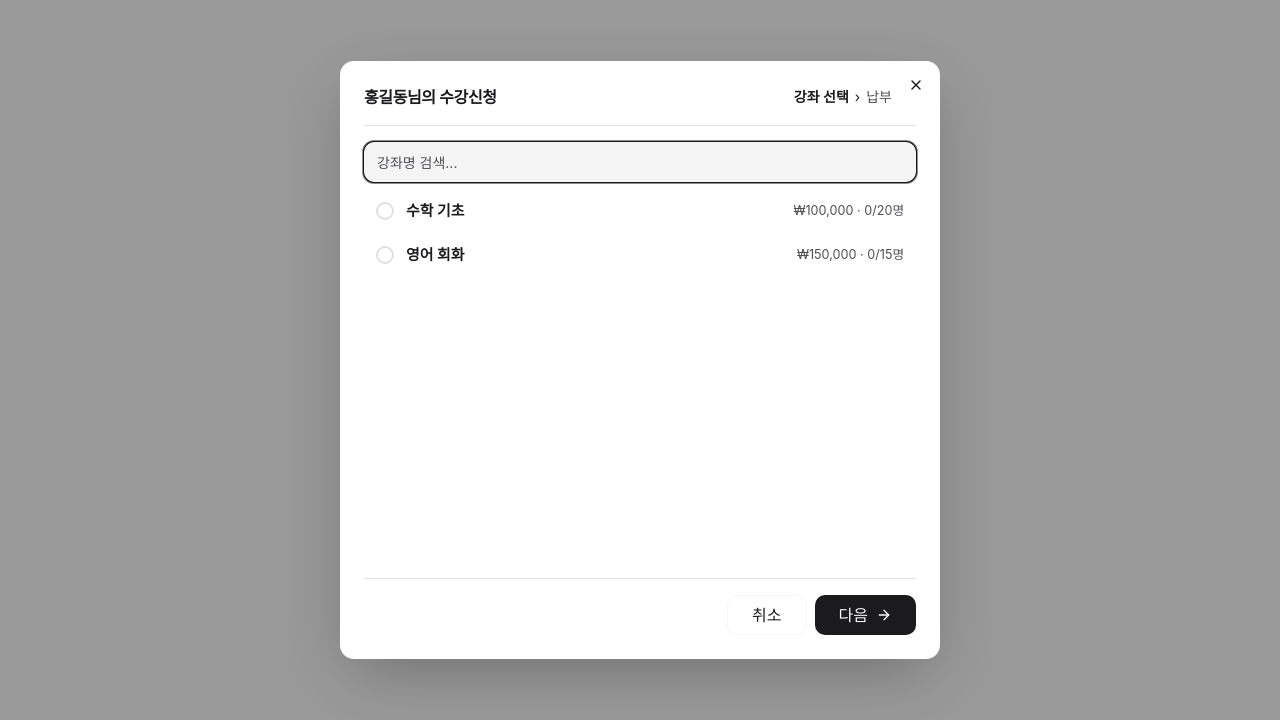
Test: EnrollmentForm › selecting a course shows payment section
The width and height of the screenshot is (1280, 720).
What coordinates should you click on to do the following:
click the button "수학 기초 ₩100,000 · 0/20명"
I would click on:
 (435, 211)
Its box is [364,190,916,232].
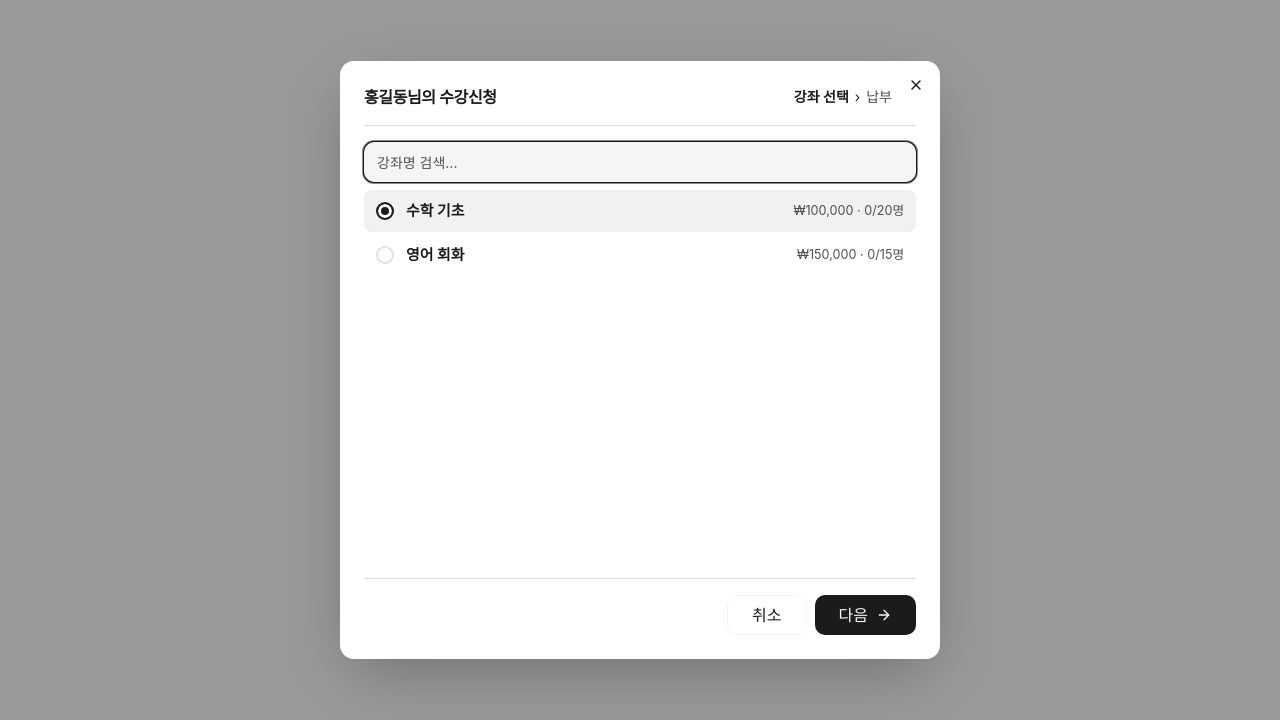
What coordinates should you click on to do the following:
click the button "다음"
I would click on:
 (865, 615)
Its box is [814,595,916,635].
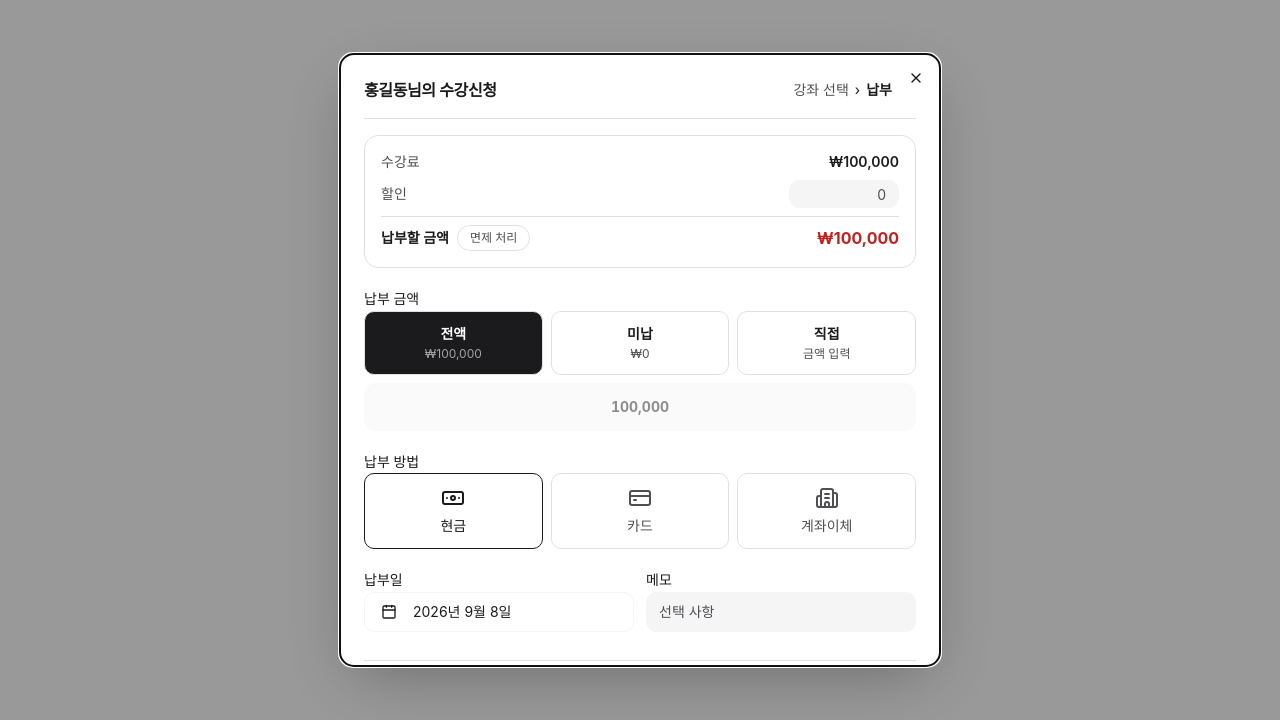
Now the text "납부 금액" is shown, box [364,290,419,307]
Now the text "납부 방법" is shown, box [364,452,419,470]
